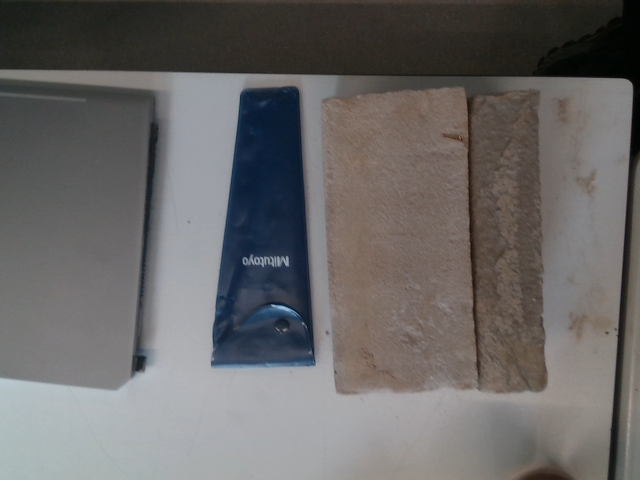brick: (322, 95, 472, 388)
